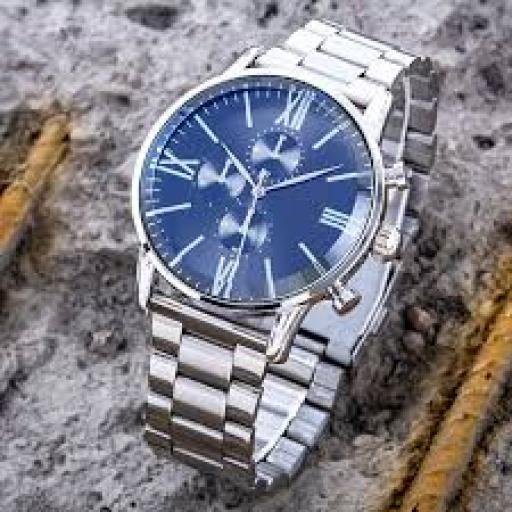KolSaati: (72, 10, 473, 497)
